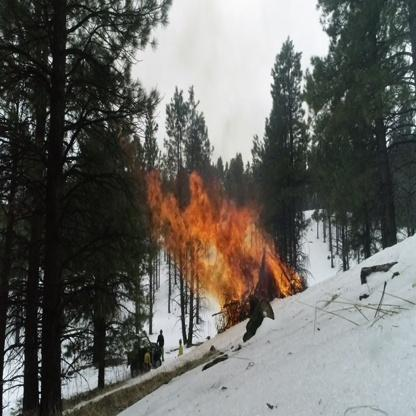Fire: (143, 167, 306, 325)
